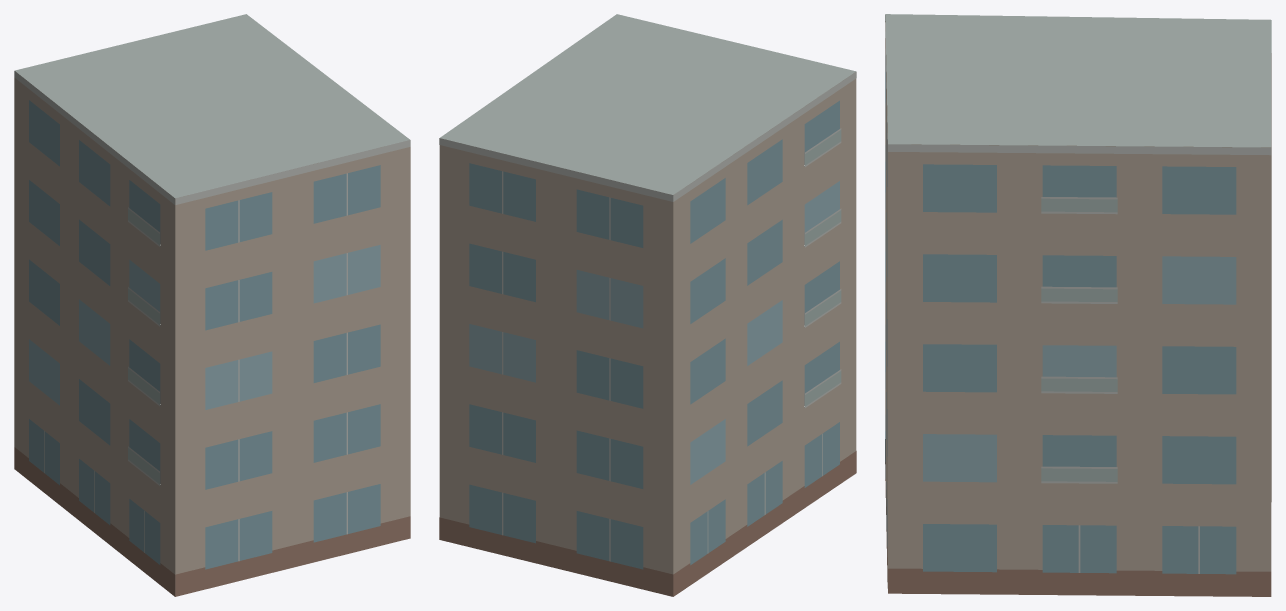
File: survey-upis-32890285.glb
The picture shows the model from 3 angles, left to right: view 1: azimuth 30°, elevation 25°; view 2: azimuth 150°, elevation 25°; view 3: azimuth 270°, elevation 25°; orthographic projection. The views are drawn at different scales.
Parts seen in each view (by area): view 1: survey-upis-32890285.tmp; view 2: survey-upis-32890285.tmp; view 3: survey-upis-32890285.tmp.
Part boxes in pixels (x1,y1,x2,y2): survey-upis-32890285.tmp: (14,14,410,596); survey-upis-32890285.tmp: (439,14,856,596); survey-upis-32890285.tmp: (885,14,1271,596).
Size of the model in its own units: 9.05 by 14.2 by 11.07.
